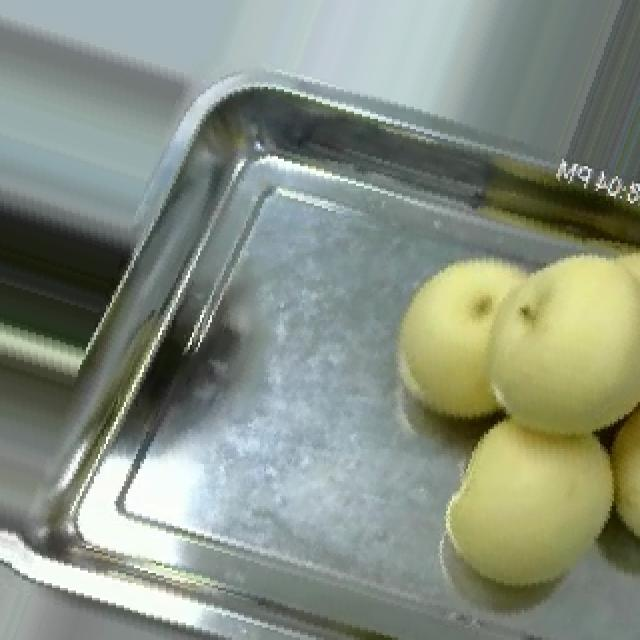Fruit: (362, 218, 640, 456), (418, 380, 640, 612)
